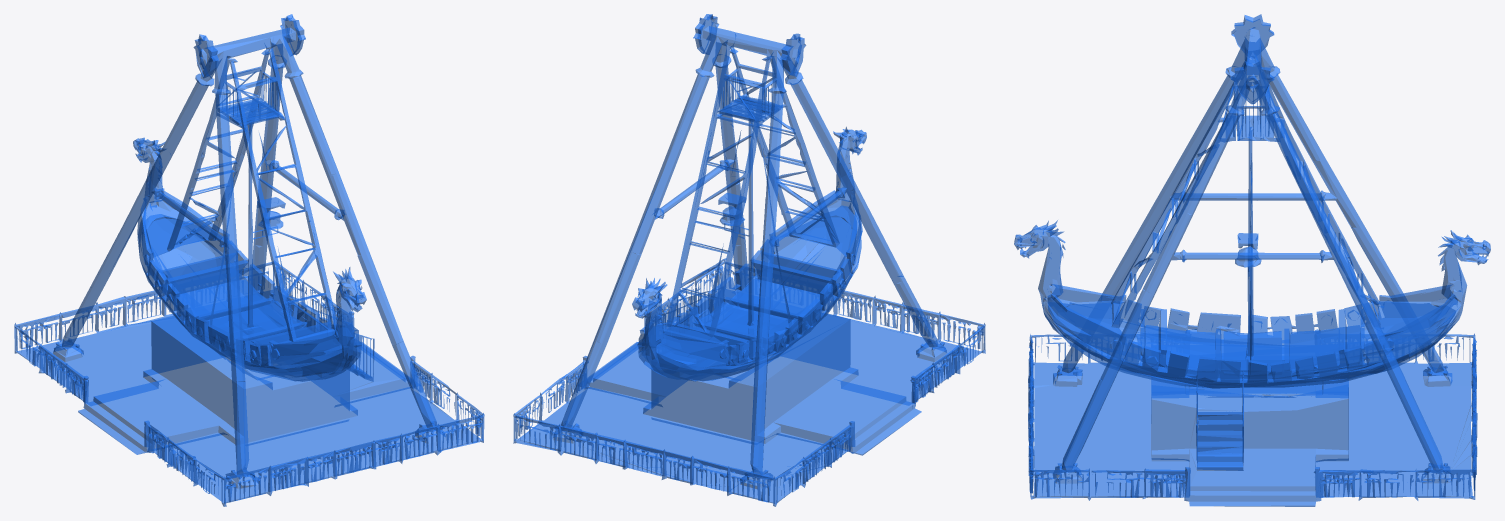
Rendered from park_viking.glb.
The picture shows the model from 3 angles, left to right: view 1: azimuth 30°, elevation 25°; view 2: azimuth 150°, elevation 25°; view 3: azimuth 270°, elevation 25°; orthographic projection. The views are drawn at different scales.
Parts seen in each view (by area): view 1: park_viking; view 2: park_viking; view 3: park_viking.
Part boxes in pixels (x1,y1,x2,y2): park_viking: (14, 14, 484, 506); park_viking: (513, 14, 985, 506); park_viking: (1014, 14, 1490, 506).
Bounding box in the file's own units: 0.7285 × 0.9145 × 0.9982.
